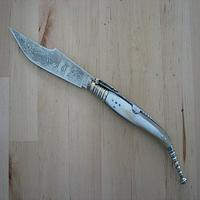knife: (3, 22, 175, 148)
